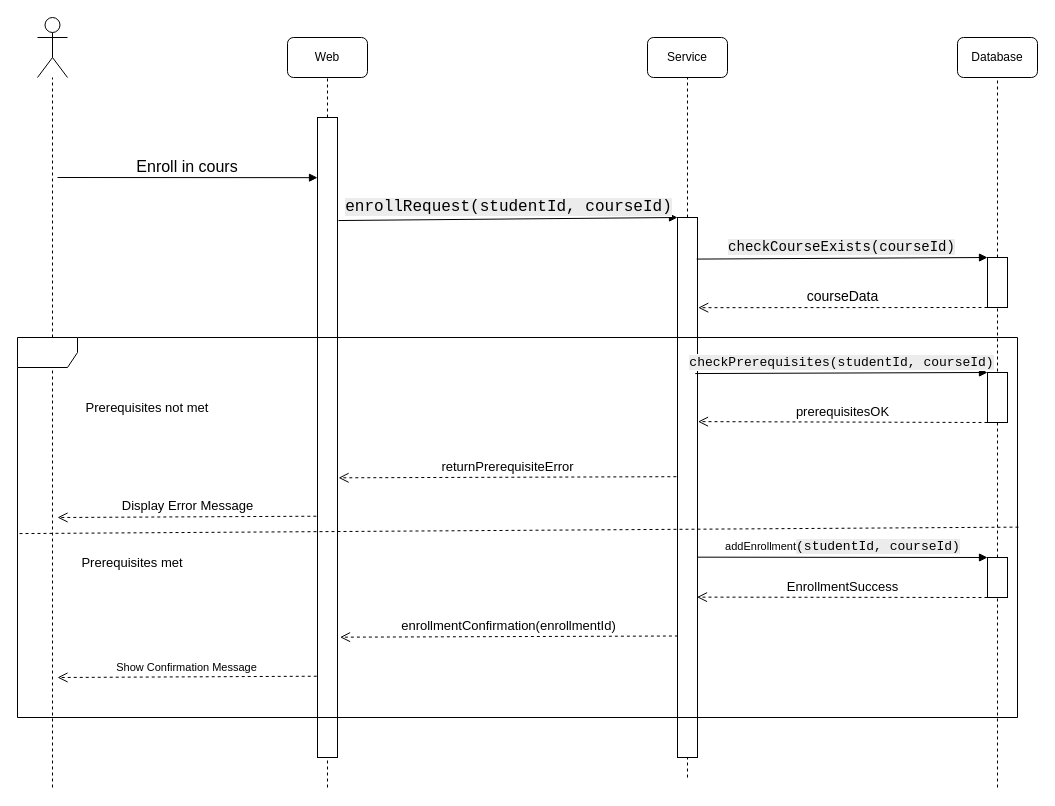
Some shapes in this 1055 by 806 pixel diagram are drawn without their labels. Here are the shapes that lost their labels. From the top down, the box of each, then its label:
(36, 16, 68, 78): Student
(16, 336, 1018, 718): Alt
